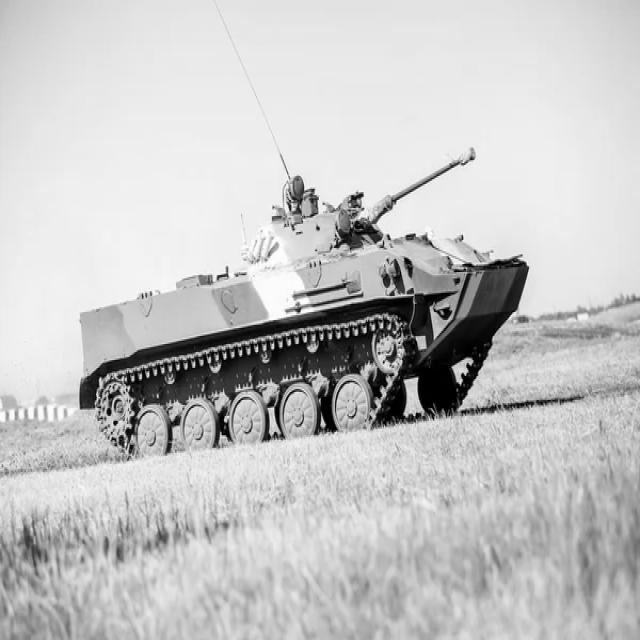Tank: (77, 142, 532, 467)
